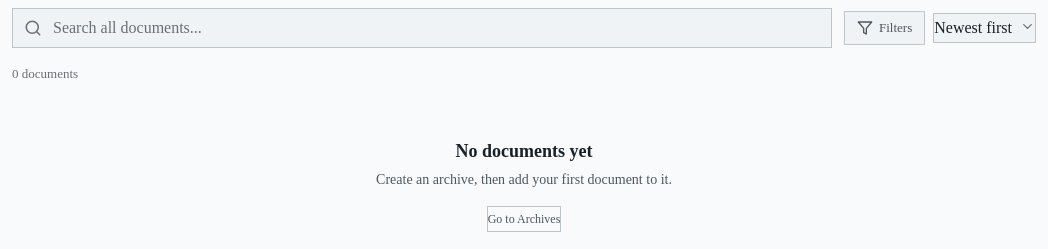
Test case: ExploreCard › sorts by the option chosen in the sort menu
The width and height of the screenshot is (1048, 249).
Click the button with aria-label "Sort documents": (985, 28) [933,13,1036,43]
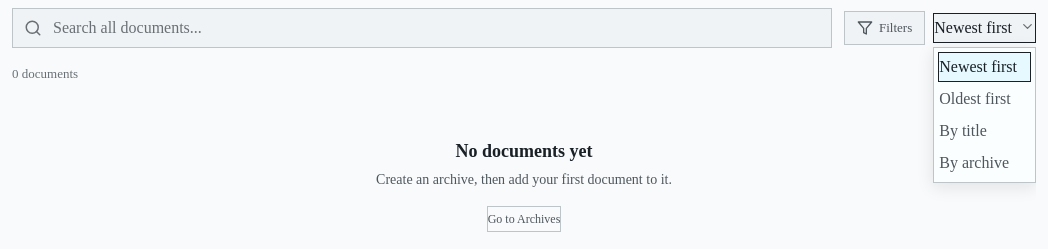
Click the menu item "By title": (985, 131) [938,116,1031,146]
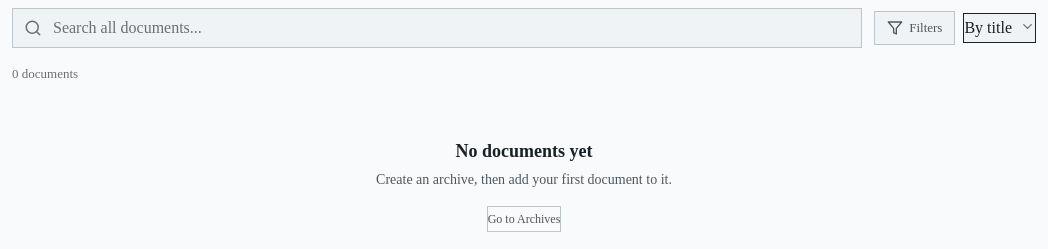
Now the button with aria-label "Sort documents" reads "By title", box [963,13,1036,43]
